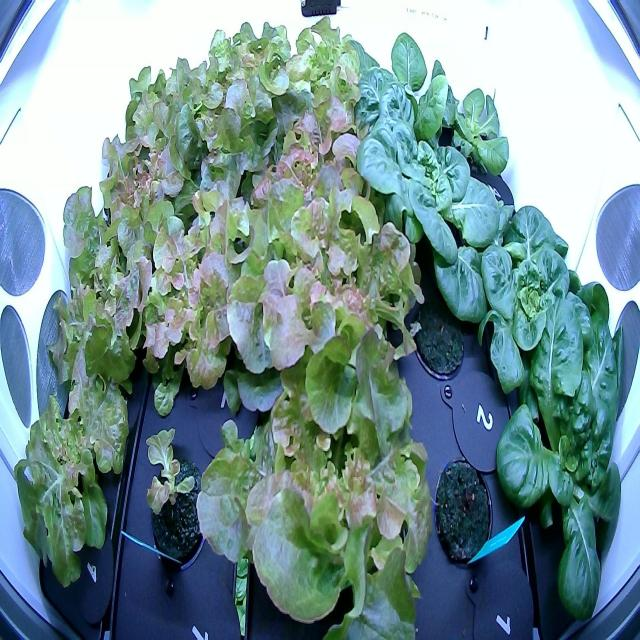young: (482, 287, 629, 629), (358, 91, 503, 336), (460, 188, 619, 396), (341, 27, 453, 169), (432, 68, 518, 190)
